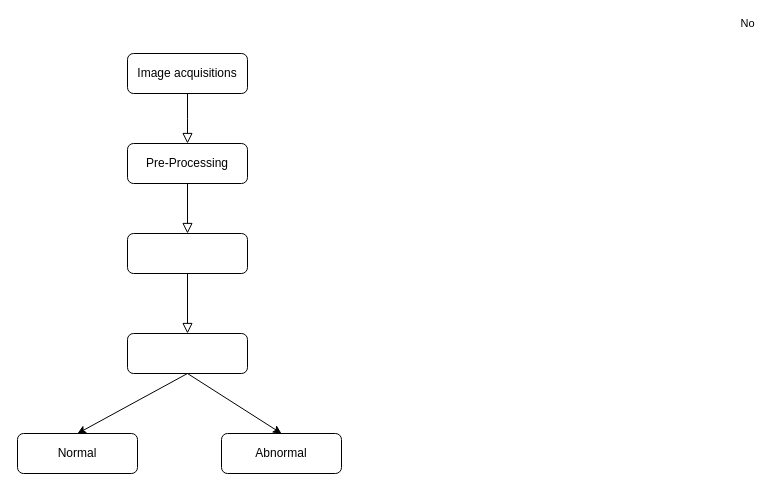
This 772x491 diagram has some shape labels left out. Here are the shapes that lost their labels. From the top down, the box of each, then its label:
(126, 232, 248, 274): Augumentation
(126, 332, 248, 374): Classifier
